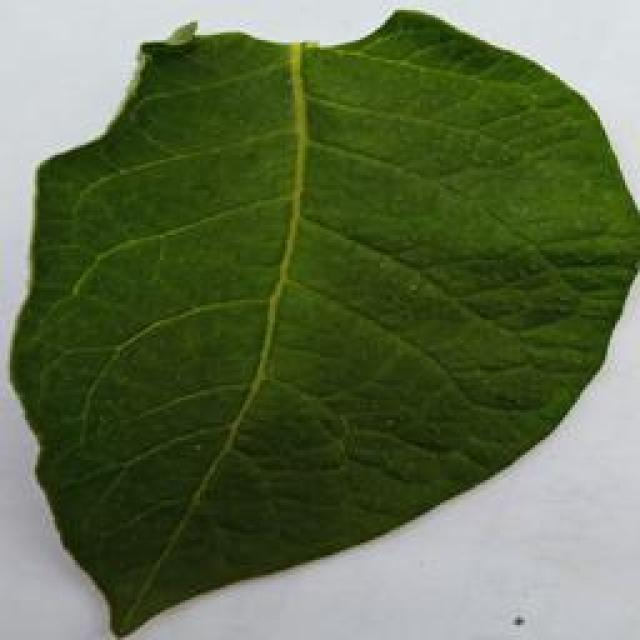Potato_Healthy: (0, 17, 630, 640)
